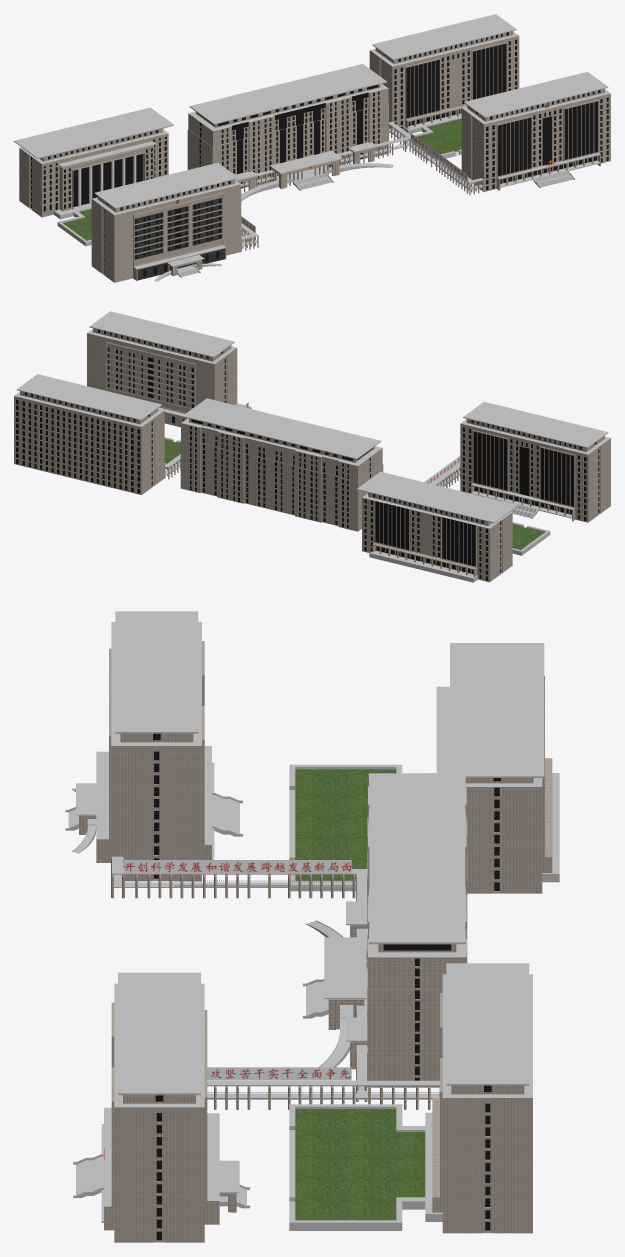
Rendered from zhengfu.FBX.
3 renders of one model, top to bottom at view 1: azimuth 30°, elevation 25°; view 2: azimuth 150°, elevation 25°; view 3: azimuth 270°, elevation 25°, orthographic. The views are drawn at different scales.
Parts seen in each view (by area): view 1: zhengfu-11, zhengfu-15, zhengfu-1, zhengfu-2, zhengfu-12, zhengfu-14, zhengfu-5, zhengfu-13, zhengfu-3; view 2: zhengfu-11, zhengfu-15, zhengfu-1, zhengfu-2, zhengfu-14, zhengfu-5; view 3: zhengfu-15, zhengfu-11, zhengfu-14, zhengfu-2, zhengfu-5, zhengfu-1, zhengfu-4, zhengfu-3, zhengfu-16.
Part boxes in pixels (x1,y1,x2,y2): zhengfu-11: (19,31,610,282); zhengfu-15: (14,14,610,268); zhengfu-1: (31,32,608,276); zhengfu-2: (154,121,600,281); zhengfu-12: (134,198,225,280); zhengfu-14: (63,119,461,240); zhengfu-5: (54,117,461,246); zhengfu-13: (78,155,136,206); zhengfu-3: (410,133,467,180); zhengfu-11: (14,328,610,582); zhengfu-15: (14,311,610,582); zhengfu-1: (16,329,599,580); zhengfu-2: (164,403,571,518); zhengfu-14: (164,439,544,549); zhengfu-5: (164,437,550,555); zhengfu-15: (76,611,559,1213); zhengfu-11: (79,641,552,1242); zhengfu-14: (295,769,425,1220); zhengfu-2: (65,762,439,1222); zhengfu-5: (289,764,442,1230); zhengfu-1: (153,733,500,1240); zhengfu-4: (124,860,351,873); zhengfu-3: (207,1067,351,1080); zhengfu-16: (175,880,439,1098).
Size of the model in its own units: 292 by 125 by 41.45.
